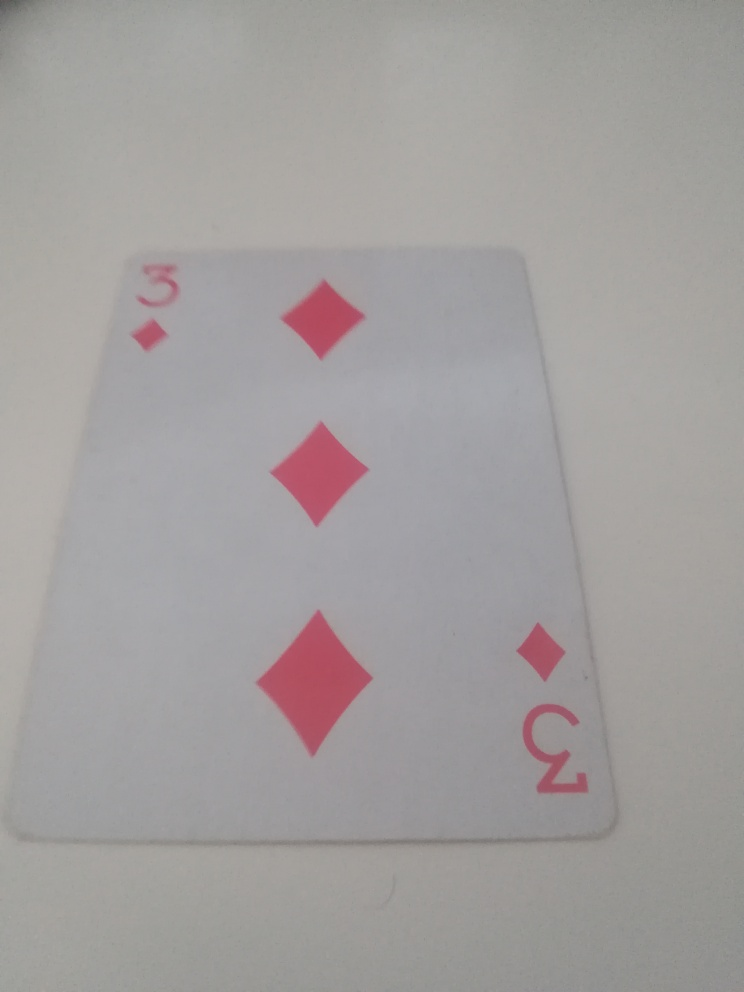3D: (122, 256, 188, 359)
